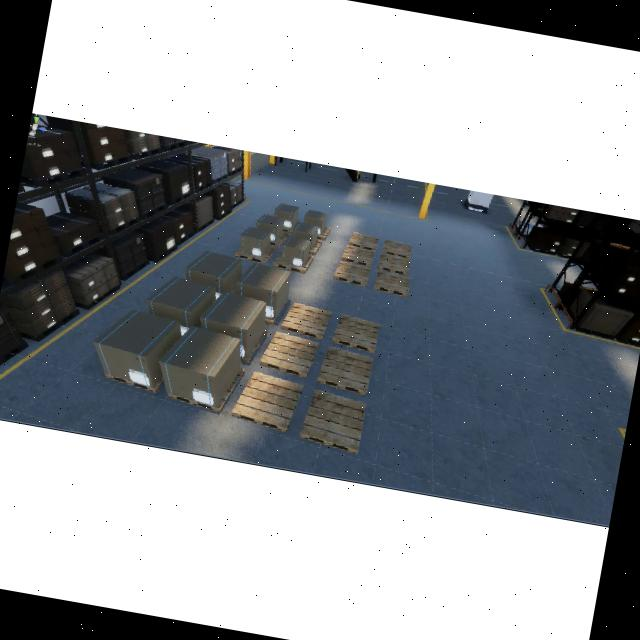wooden_pallet: (167, 367, 244, 412), (258, 332, 319, 378), (280, 302, 331, 340), (104, 373, 164, 392), (333, 260, 371, 286), (272, 251, 314, 273), (234, 246, 277, 264), (341, 244, 374, 267)
